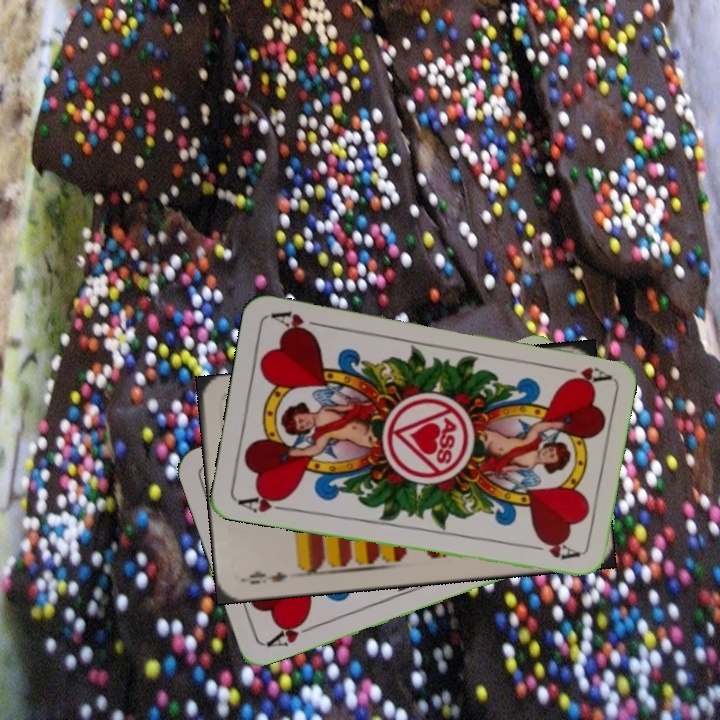E9: (240, 567, 290, 587)
HA: (262, 614, 319, 650), (234, 488, 294, 516), (552, 362, 611, 385)
